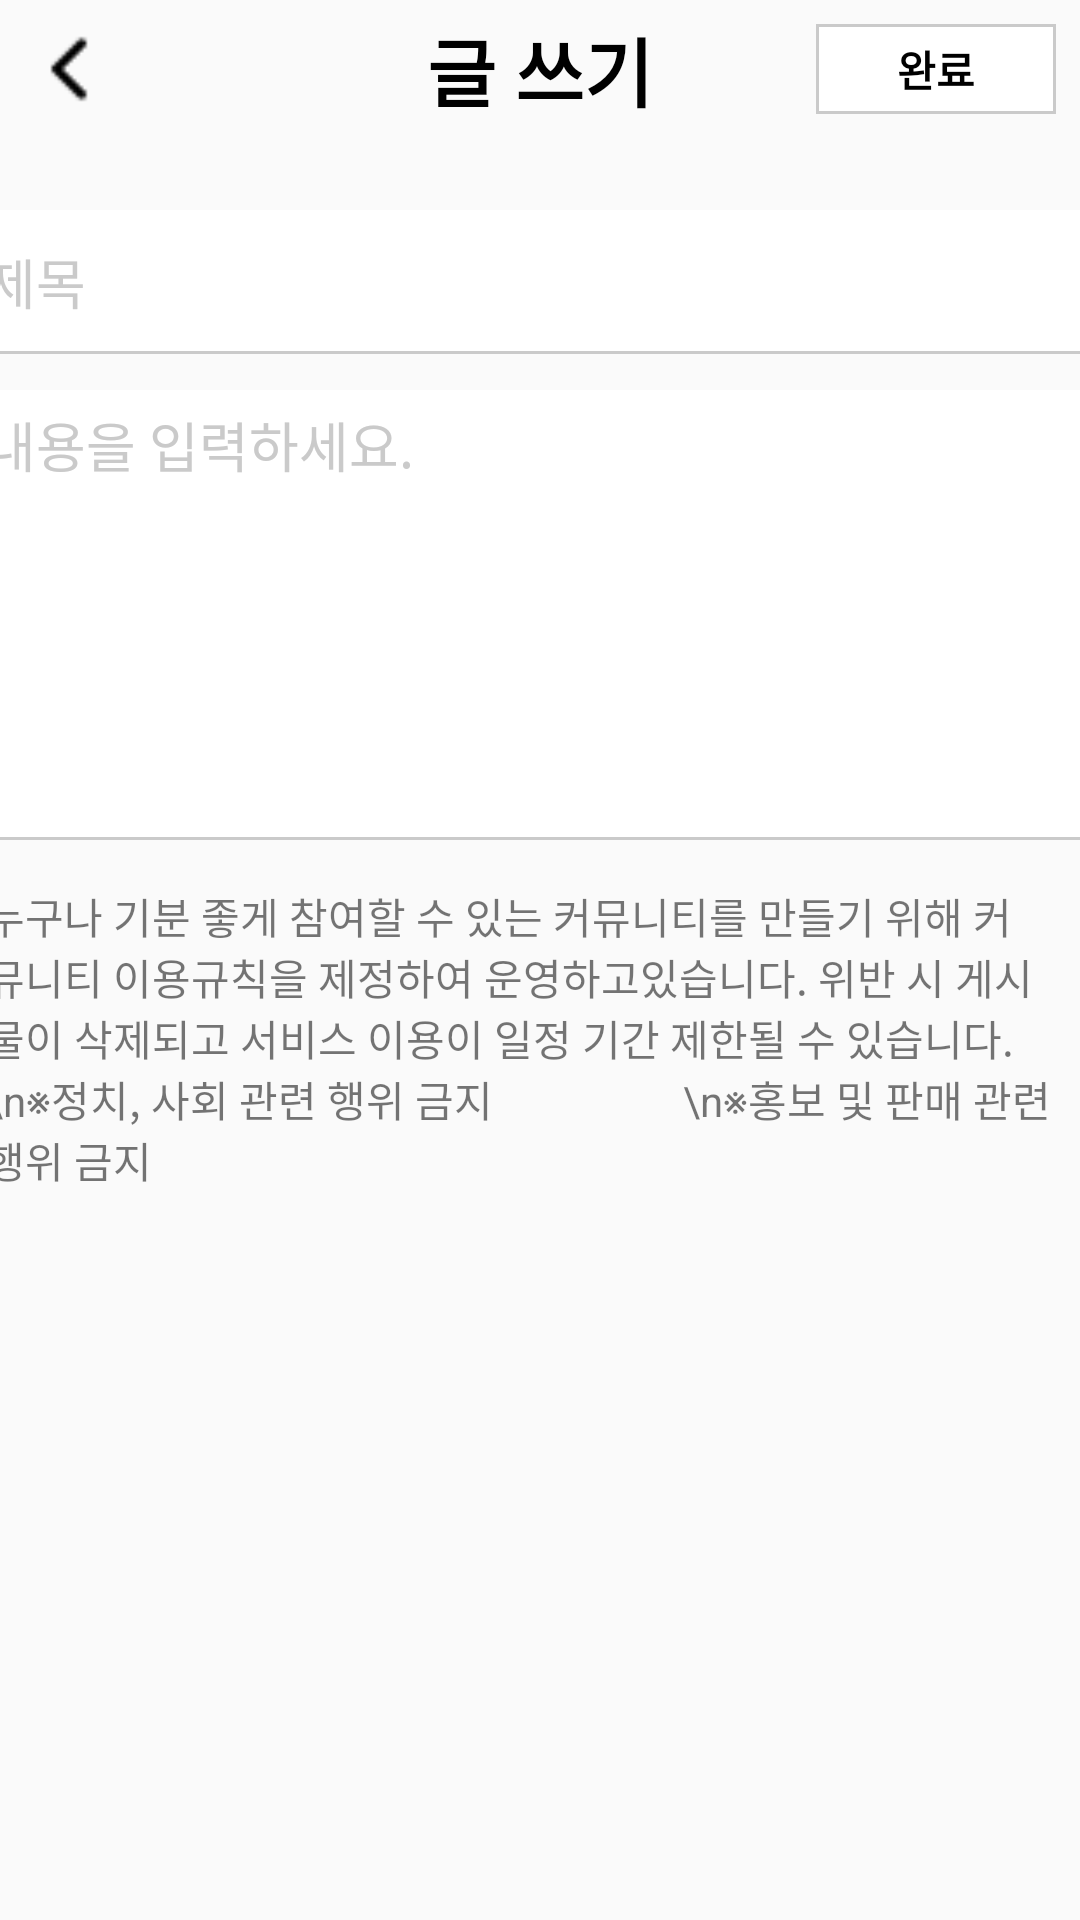

Screen size 1080 x 1920. Icon name, then its center in pixels as point (x, y):
back: point (69, 69)
